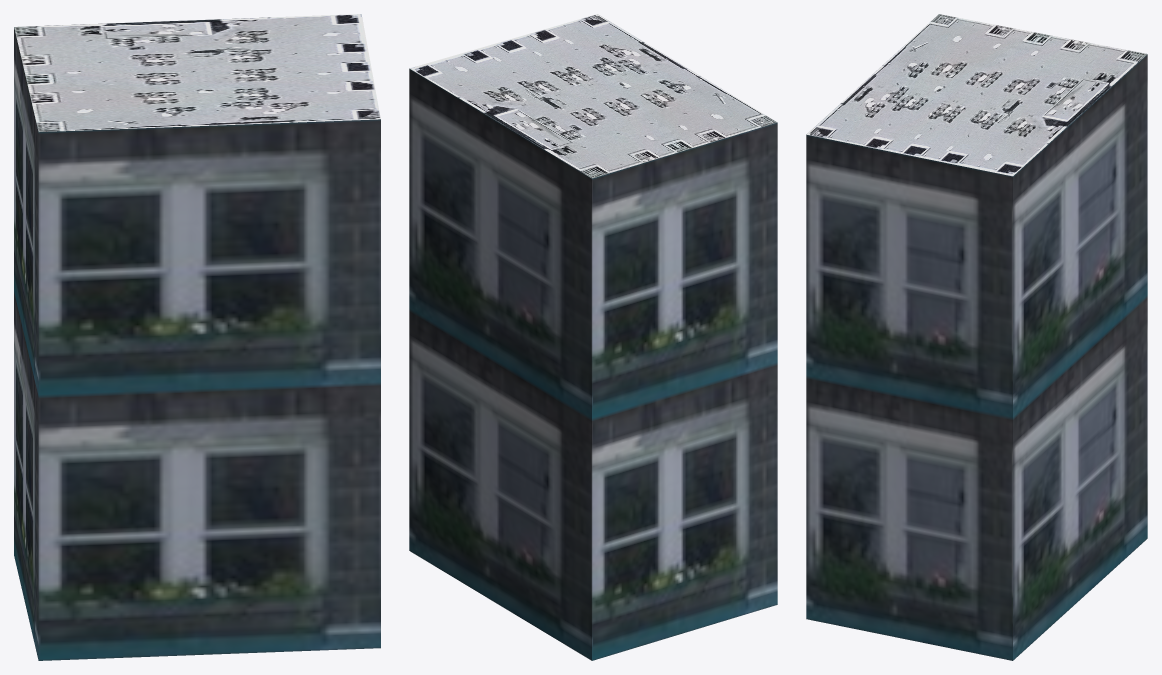
File: ResTex__2675.fbx
The picture shows the model from 3 angles, left to right: view 1: azimuth 30°, elevation 25°; view 2: azimuth 150°, elevation 25°; view 3: azimuth 270°, elevation 25°; orthographic projection. The views are drawn at different scales.
Visible parts, largest first — view 1: CityEngineMaterial_11_m, CityEngineMaterial_8_m; view 2: CityEngineMaterial_11_m, CityEngineMaterial_8_m; view 3: CityEngineMaterial_11_m, CityEngineMaterial_8_m.
Boxes of the visible parts, x1,y1,x2,y2 form: CityEngineMaterial_11_m: (14, 27, 380, 660); CityEngineMaterial_8_m: (14, 14, 380, 131); CityEngineMaterial_11_m: (409, 68, 777, 660); CityEngineMaterial_8_m: (409, 14, 776, 178); CityEngineMaterial_11_m: (806, 54, 1147, 660); CityEngineMaterial_8_m: (806, 14, 1147, 176).
Size of the model in its own units: 4.31 by 6 by 3.83.
2 materials, 2 textured.
